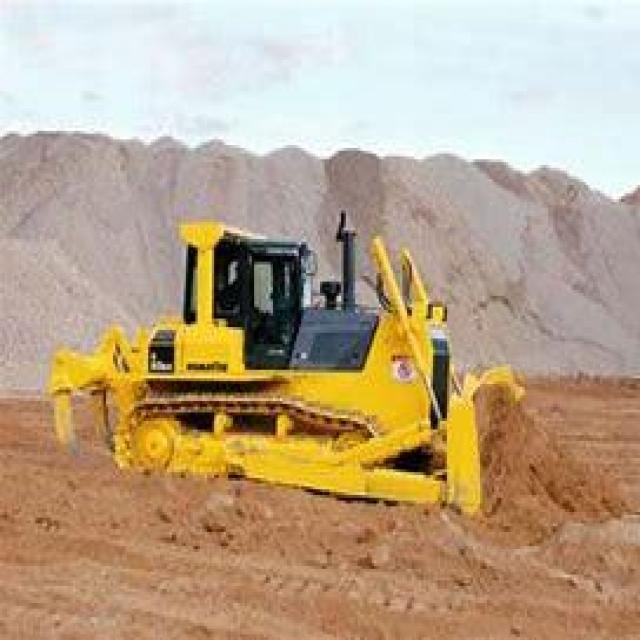Bulldozer: (38, 196, 558, 535)
